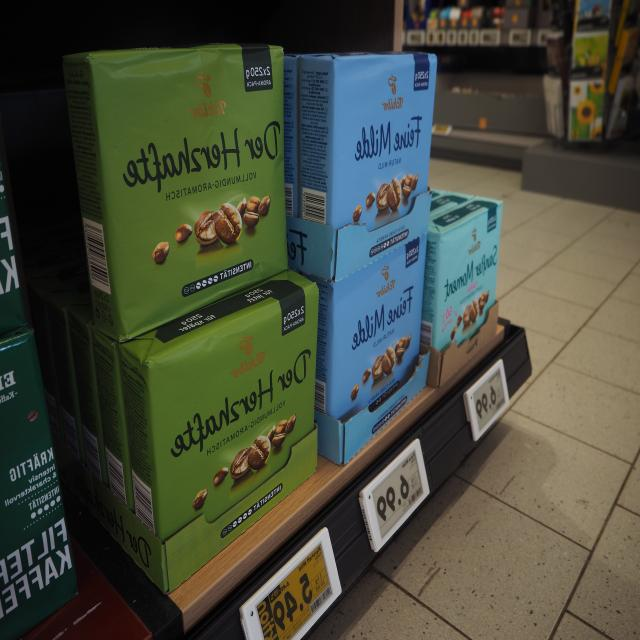Empty Shelf: (433, 53, 512, 227)
FM Gemahlen: (331, 52, 438, 285), (329, 230, 430, 456)
Herzhatfe Mundig: (87, 40, 291, 347), (147, 279, 319, 590)
SM Gemahlen: (433, 198, 504, 388)
